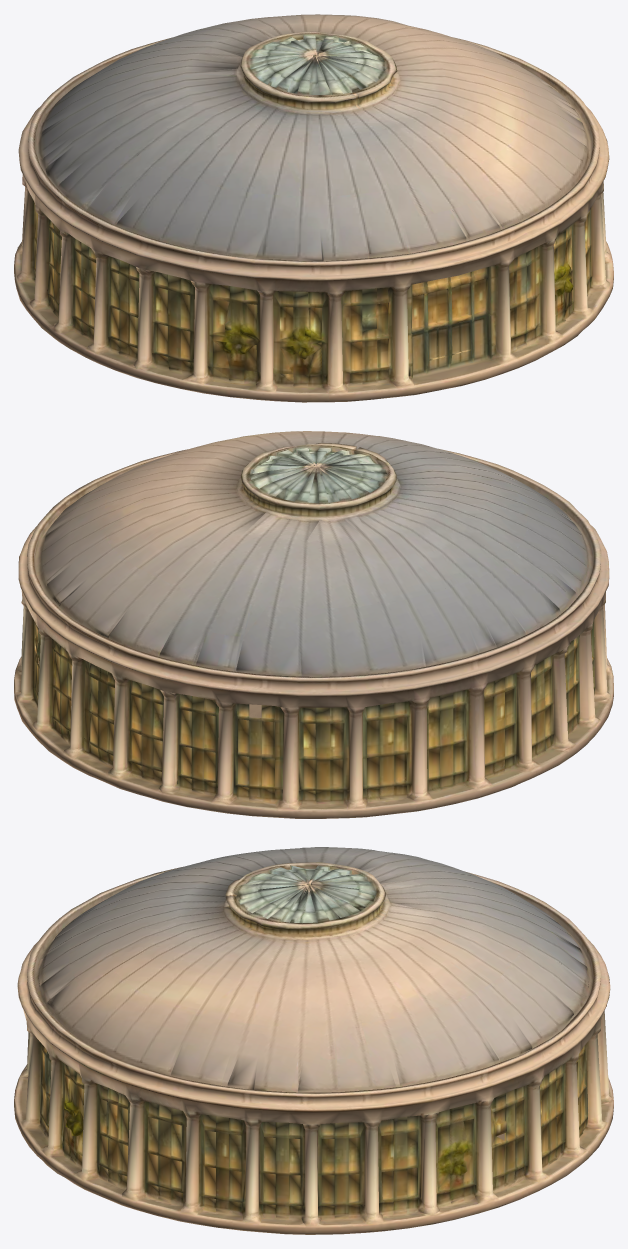
The model's file is dome_hall.glb.
3 renders of one model, top to bottom at view 1: azimuth 30°, elevation 25°; view 2: azimuth 150°, elevation 25°; view 3: azimuth 270°, elevation 25°, orthographic.
Parts seen in each view (by area): view 1: tripo_node_ecbf3b97-b0b1-4338-b7a2-d6fa16c8324a; view 2: tripo_node_ecbf3b97-b0b1-4338-b7a2-d6fa16c8324a; view 3: tripo_node_ecbf3b97-b0b1-4338-b7a2-d6fa16c8324a.
Boxes of the visible parts, x1,y1,x2,y2 form: tripo_node_ecbf3b97-b0b1-4338-b7a2-d6fa16c8324a: (14, 14, 613, 402); tripo_node_ecbf3b97-b0b1-4338-b7a2-d6fa16c8324a: (14, 431, 613, 818); tripo_node_ecbf3b97-b0b1-4338-b7a2-d6fa16c8324a: (14, 847, 613, 1234).
Bounding box in the file's own units: 110 × 45.42 × 110.
1 material, 1 textured.
